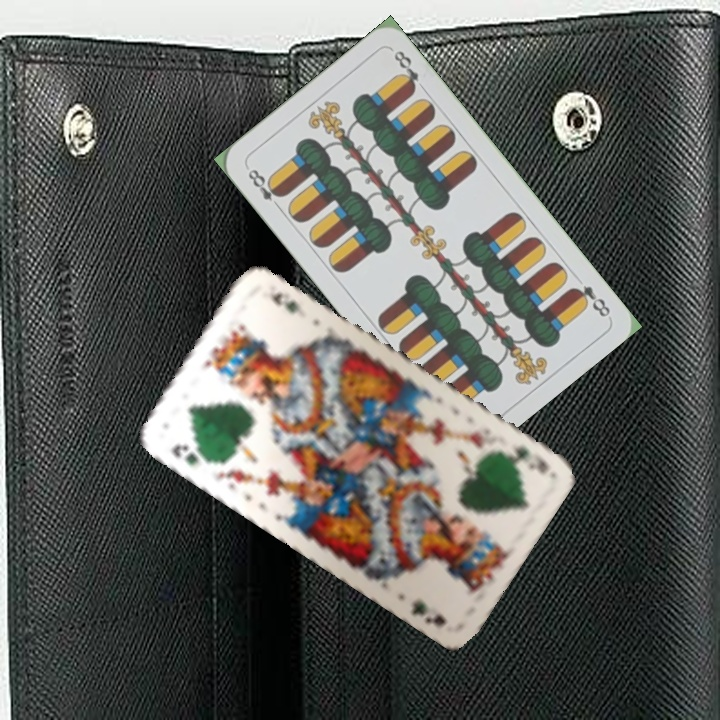E8: (243, 164, 286, 213), (567, 281, 613, 320)
GK: (496, 441, 552, 477), (167, 440, 214, 468)
